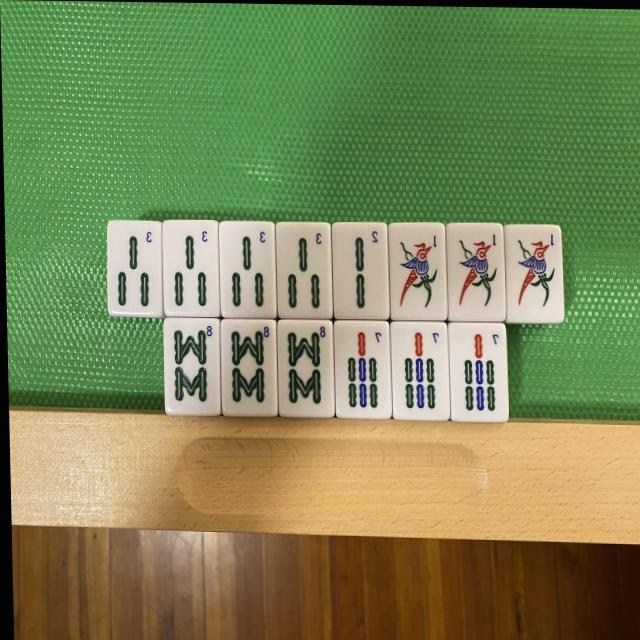s1: (447, 225, 505, 321), (505, 225, 562, 321), (389, 224, 446, 318)
s2: (332, 224, 389, 320)
s3: (219, 222, 276, 318), (164, 221, 220, 316), (277, 224, 333, 318), (108, 222, 162, 315)
s7: (390, 323, 450, 420), (449, 324, 508, 421), (333, 321, 391, 418)
s8: (277, 320, 335, 418), (164, 318, 221, 414), (221, 319, 277, 416)
